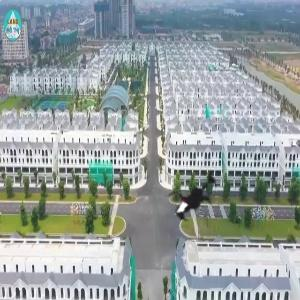drone: (148, 148, 239, 239)
